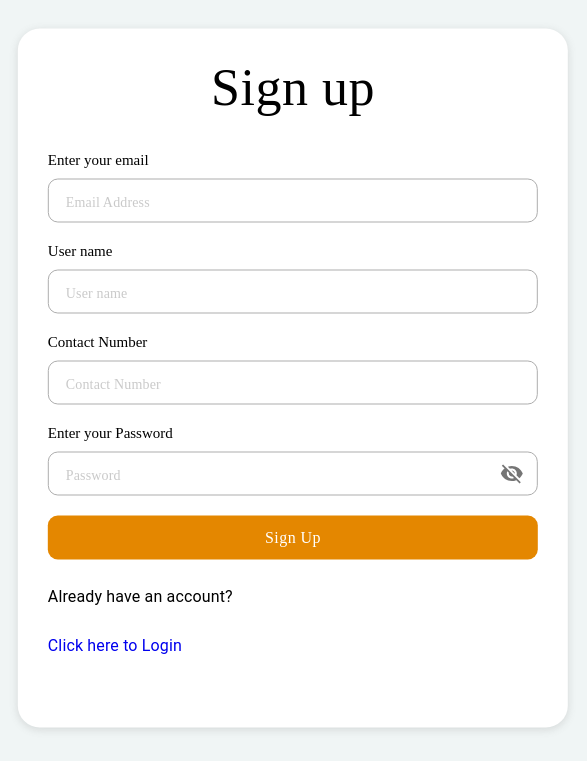
Test: Register › should display error message for invalid email format
In the field with test id "email-input": [293, 200] box [48,178,538,222], type "invalid-email"
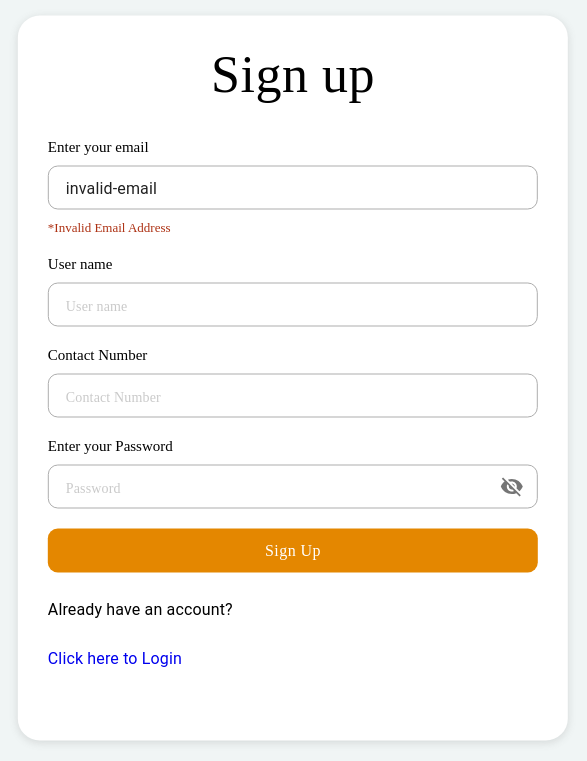
Check: the text with test id "email-error" reads "*Invalid Email Address", box [48,220,171,234]
Check: the text "*Invalid Email Address" is shown, box [48,220,171,236]
